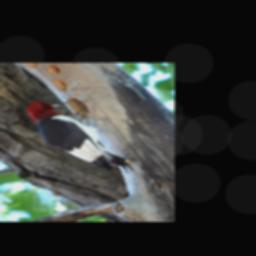Woodpecker: (29, 100, 137, 174)
